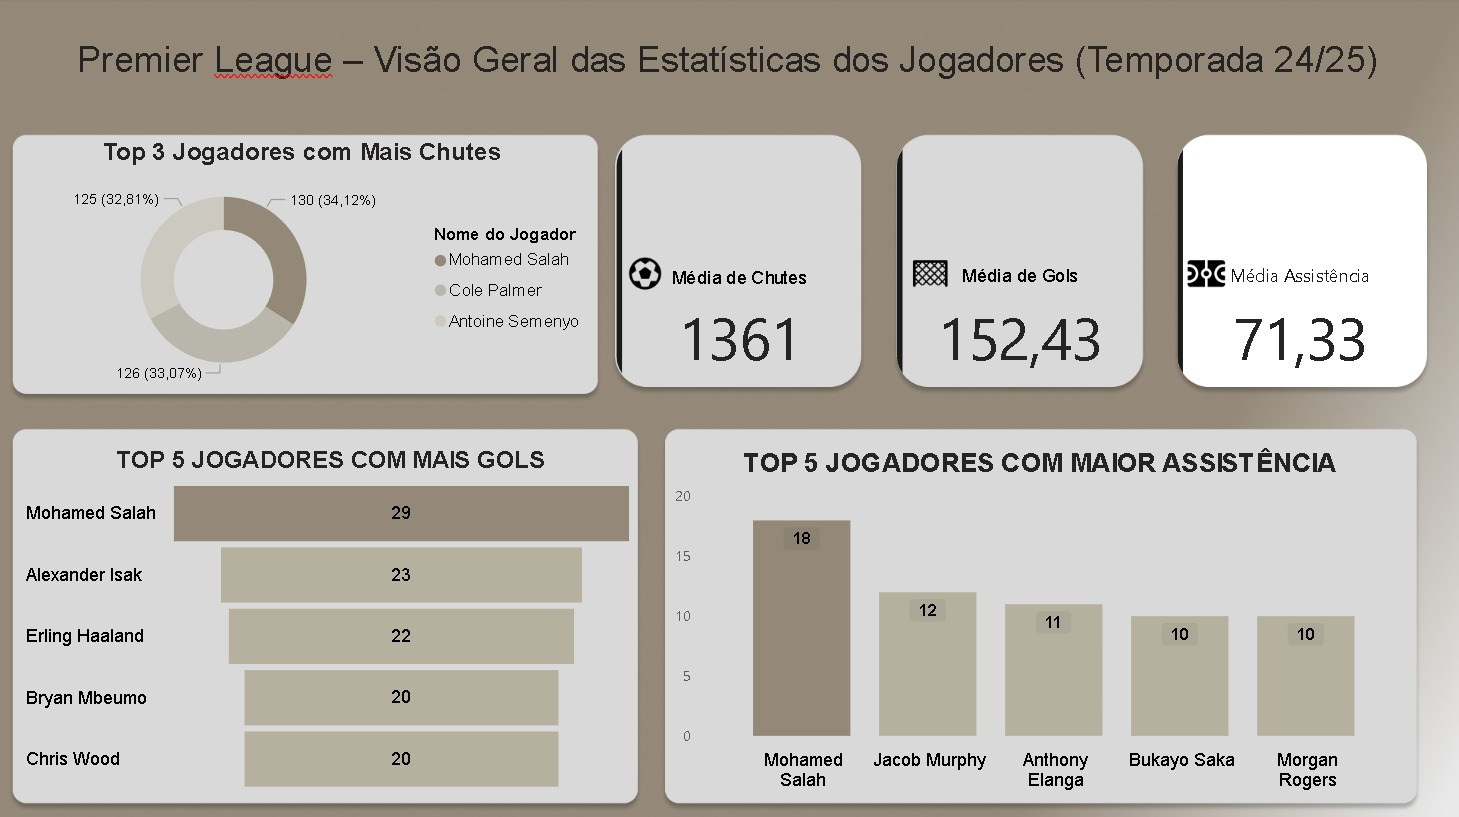

The dashboard page shown, as its layout file describes it:
{"tool":"powerbi","page":{"name":"Estatísticas dos Jogadores","canvas":[1280,720],"ordinal":0},"visuals":[{"type":"cardVisual","fields":{"Data":["Media_goals_assists_shots.Shots","Media_goals_assists_shots.Goals","Media_goals_assists_shots.Assists"]},"box":[524.6,104.4,751.8,255.3],"z":0},{"type":"donutChart","title":" Top 3 Jogadores com Mais Chutes ","fields":{"Category":["Quantos_chutes_por_jogador.Player Name"],"Y":["Quantos_chutes_por_jogador.Shots"]},"box":[7.9,104.5,516.3,243.2],"z":2000},{"type":"columnChart","title":"TOP 5 JOGADORES COM MAIOR ASSISTÊNCIA","fields":{"Category":["Top_5_Jogadores_mais_Assists.Player Name"],"Y":["Top_5_Jogadores_mais_Assists.Assists"]},"box":[584.6,374.9,657.1,328.6],"z":2001},{"type":"funnel","title":" TOP 5 JOGADORES COM MAIS GOLS ","fields":{"Category":["Top_5_Jogadores_mais_Gols.Player Name"],"Y":["Top_5_Jogadores_mais_Gols.Goals"]},"box":[18.1,374.9,544.3,328.6],"z":2002},{"type":"textbox","box":[27.2,31.2,1224.6,52.4],"z":2003}]}

Visuals, with their boxes in screenshot pixels (x1, y1, x2, y2), scaled from the page's 1280x720 canvas onto the 1459x817 screenshot:
cardVisual - Media_goals_assists_shots.Shots x Media_goals_assists_shots.Goals: 598,118,1455,408
" Top 3 Jogadores com Mais Chutes " donutChart: 9,119,598,395
"TOP 5 JOGADORES COM MAIOR ASSISTÊNCIA" columnChart: 666,425,1415,798
" TOP 5 JOGADORES COM MAIS GOLS " funnel: 21,425,641,798
textbox: 31,35,1427,95
